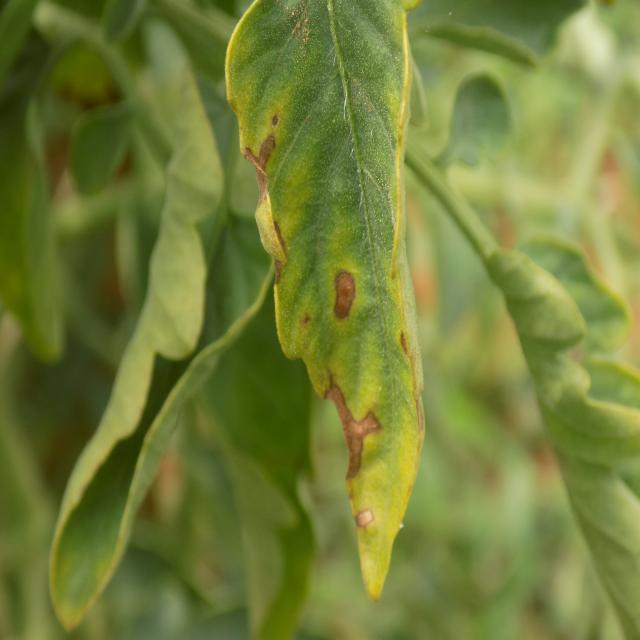tomato_early blight: (220, 0, 425, 596)
